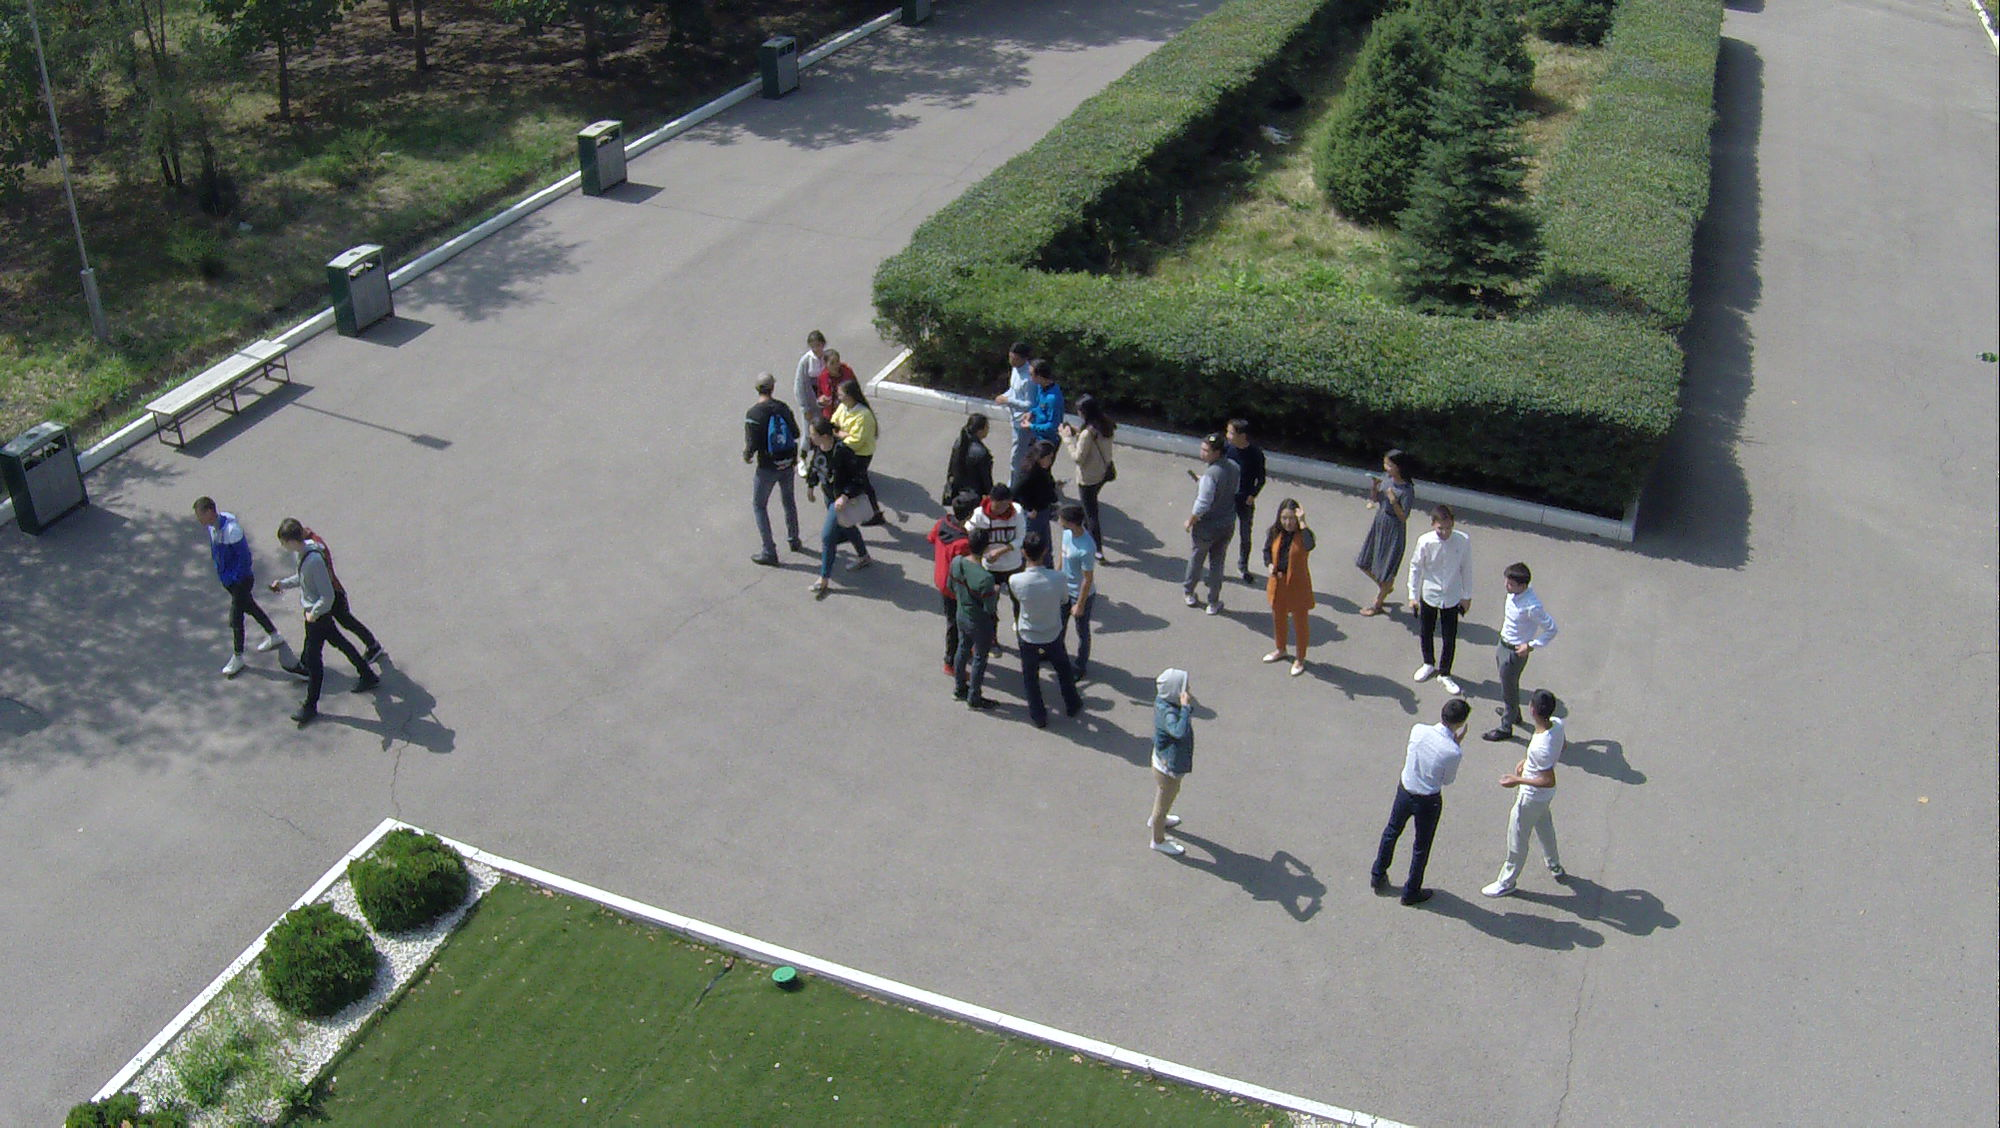person: (1362, 697, 1476, 930), (285, 520, 399, 735), (1487, 689, 1587, 924), (1478, 558, 1568, 751), (1405, 514, 1485, 714), (189, 501, 276, 680), (1143, 660, 1212, 870), (1016, 541, 1080, 741), (743, 374, 805, 570), (1351, 441, 1422, 605), (303, 503, 374, 664), (807, 430, 866, 610), (1262, 505, 1320, 683), (1187, 433, 1235, 618), (1074, 399, 1128, 564), (1228, 424, 1278, 593), (949, 533, 989, 720), (1062, 508, 1097, 691), (997, 347, 1043, 466), (824, 370, 878, 462), (1026, 358, 1066, 474), (941, 408, 995, 491), (926, 501, 966, 599), (789, 330, 837, 405)
